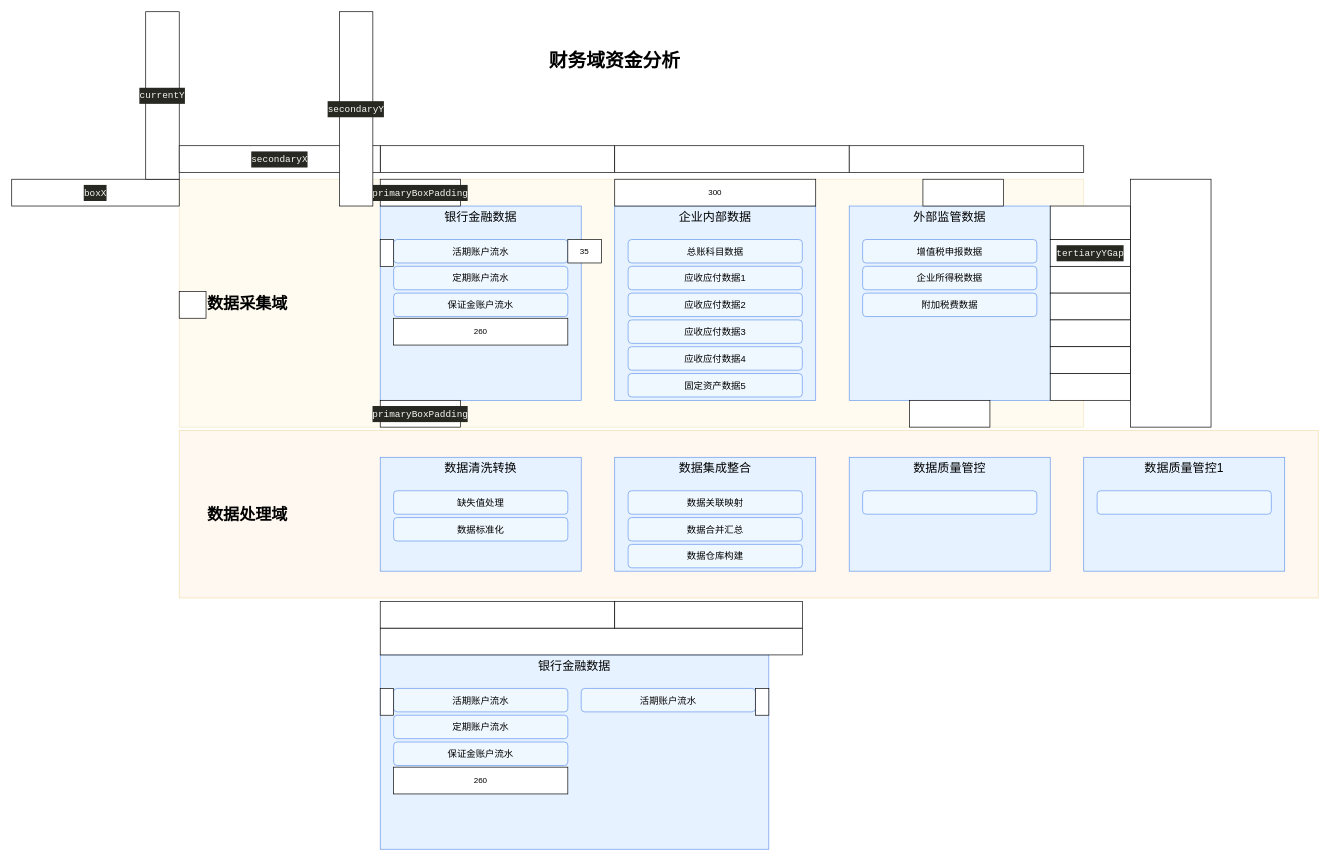
Image size: 1330x861. Some labels were removed from this diagram. The centre of each missing label's shape, as x and y in pixels:
boxHeight: the point at 1170,303
secondaryTitleHeight: the point at 1090,222
数据一致性维护: the point at 949,502
数据一致性维护1: the point at 1183,502
